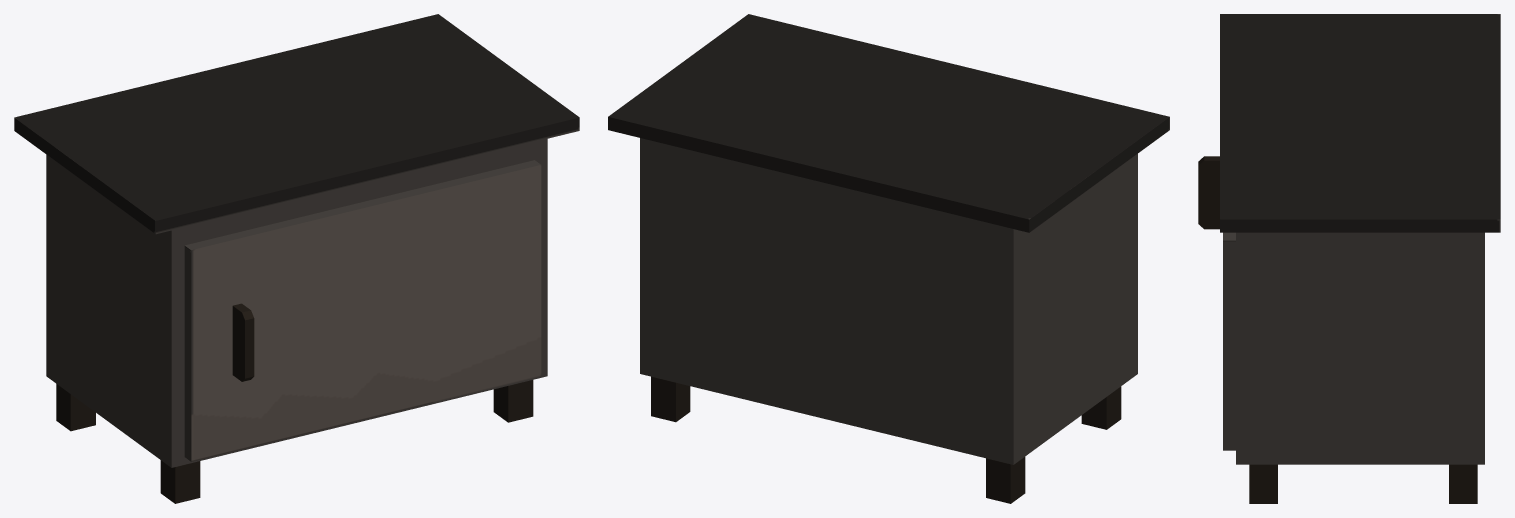
Rendered from nightStand.obj.
3 renders of one model, left to right at view 1: azimuth 30°, elevation 25°; view 2: azimuth 150°, elevation 25°; view 3: azimuth 270°, elevation 25°, orthographic.
Parts seen in each view (by area): view 1: Cube, Cube.002, Cube.001, Cube.003, Cube.005; view 2: Cube, Cube.005, Cube.004, Cube.001; view 3: Cube, Cube.002, Cube.003, Cube.004.
Part boxes in pixels (x1,y1,x2,y2): Cube: (14,14,579,467); Cube.002: (232,303,254,381); Cube.001: (160,460,200,503); Cube.003: (493,380,533,422); Cube.005: (56,384,95,431); Cube: (608,14,1169,464); Cube.005: (986,457,1025,503); Cube.004: (651,376,690,422); Cube.001: (1081,386,1121,429); Cube: (1220,14,1500,464); Cube.002: (1198,156,1219,229); Cube.003: (1249,464,1277,503); Cube.004: (1449,464,1477,503).
Bounding box in the file's own units: 3.91 × 2.66 × 2.43.
Materials: 6 (6 with a texture image).
